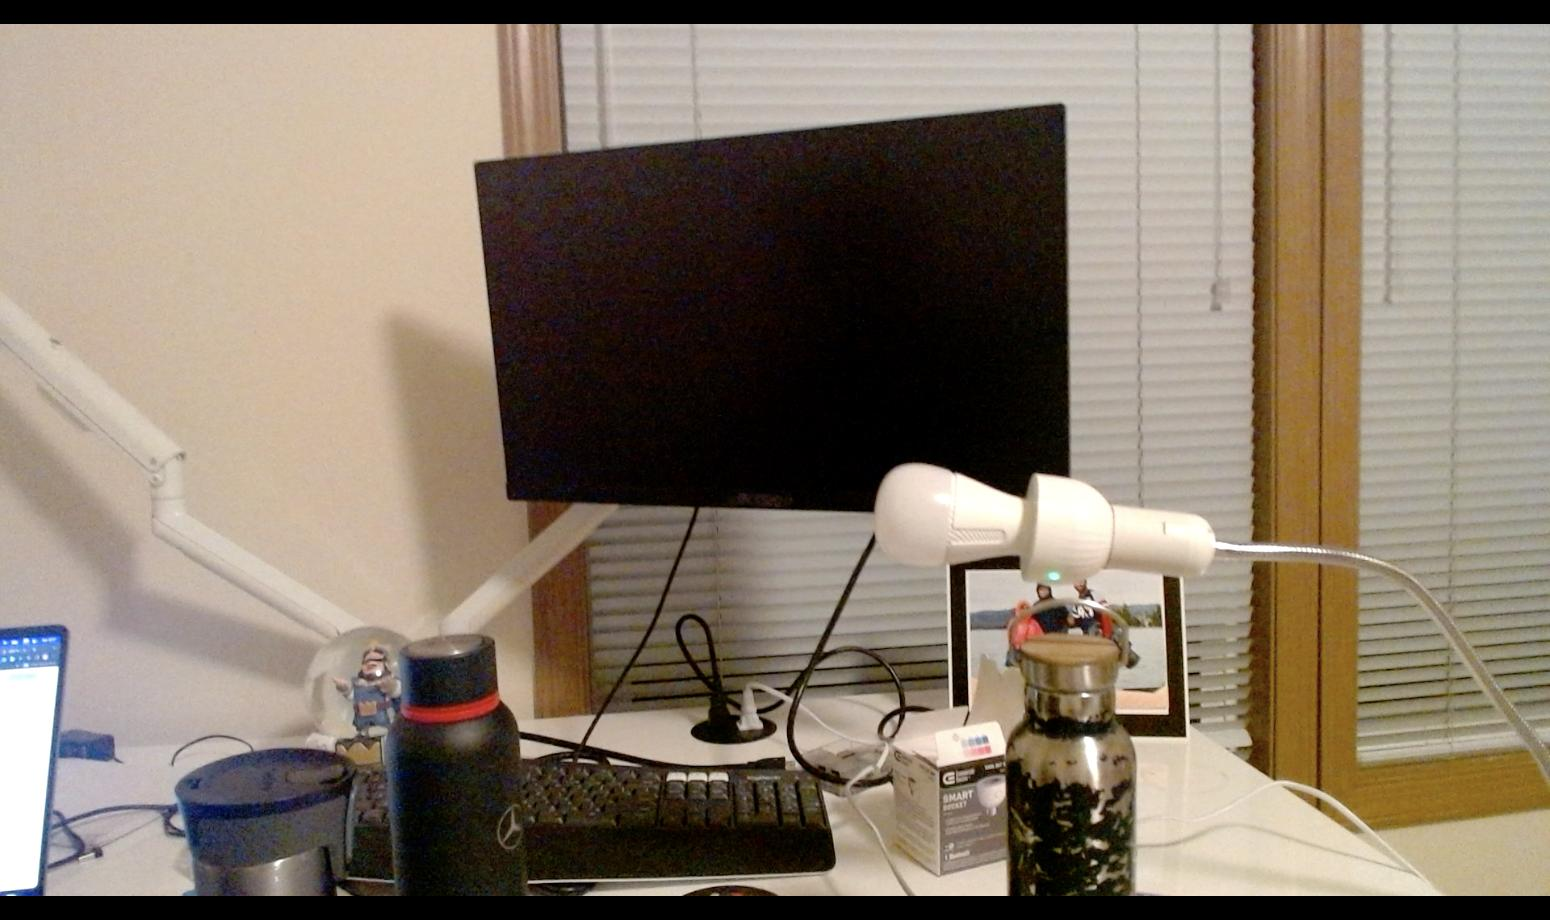Fan: (874, 461, 1027, 564)
